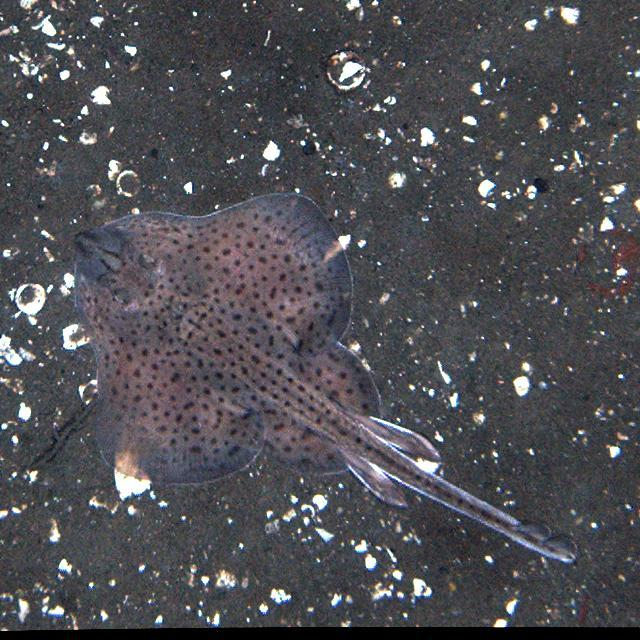skate: (58, 194, 580, 570)
